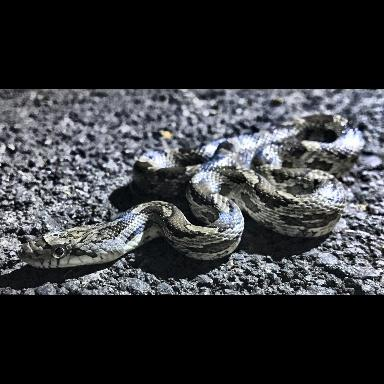snake: (0, 90, 384, 297)
